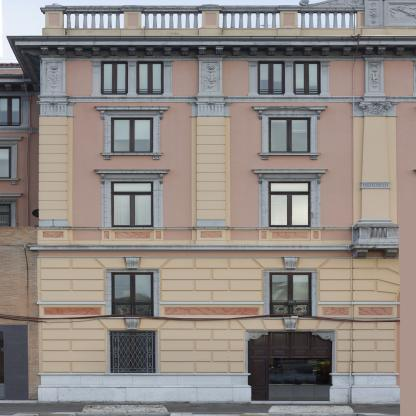Balcony: (40, 0, 416, 35)
Building Outline: (6, 0, 416, 403)
Cornice: (252, 105, 329, 110), (94, 105, 171, 110), (94, 169, 171, 174), (250, 169, 329, 173)
Deco: (45, 62, 63, 91), (202, 62, 219, 91), (369, 62, 381, 91), (123, 256, 142, 270), (282, 317, 300, 331), (124, 317, 142, 331), (282, 256, 300, 270)
Door: (246, 330, 332, 401)
Facade: (39, 41, 415, 404)
Floor: (40, 168, 416, 257), (40, 257, 416, 330), (40, 102, 416, 162)
Floor Slab: (40, 324, 416, 330), (39, 162, 415, 168), (39, 96, 415, 102), (40, 35, 416, 41), (40, 251, 416, 257)
Ground Floor: (40, 330, 416, 404)
Molding: (39, 45, 416, 56), (37, 96, 416, 102)
Pillar: (187, 101, 235, 244), (349, 100, 400, 227), (34, 101, 77, 245)
Shop: (269, 358, 331, 401)
Sill: (257, 153, 322, 160), (100, 153, 164, 160), (97, 227, 169, 230), (255, 227, 326, 230)
Top Floor: (40, 41, 416, 96)
Window: (111, 181, 154, 227), (269, 181, 311, 227), (270, 272, 312, 317), (111, 272, 153, 317), (110, 332, 155, 373), (269, 118, 311, 153), (111, 118, 153, 153), (293, 61, 321, 95), (258, 61, 286, 95), (136, 61, 164, 95), (100, 61, 128, 95)
